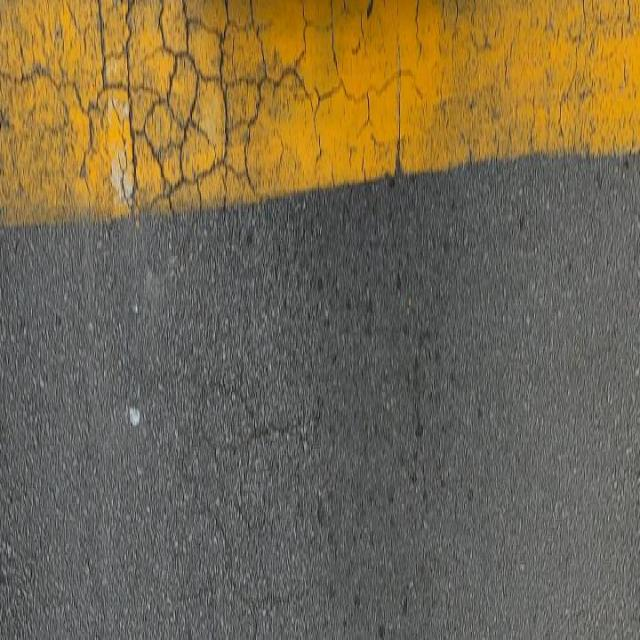cracks: (0, 3, 640, 247), (134, 317, 327, 640)
